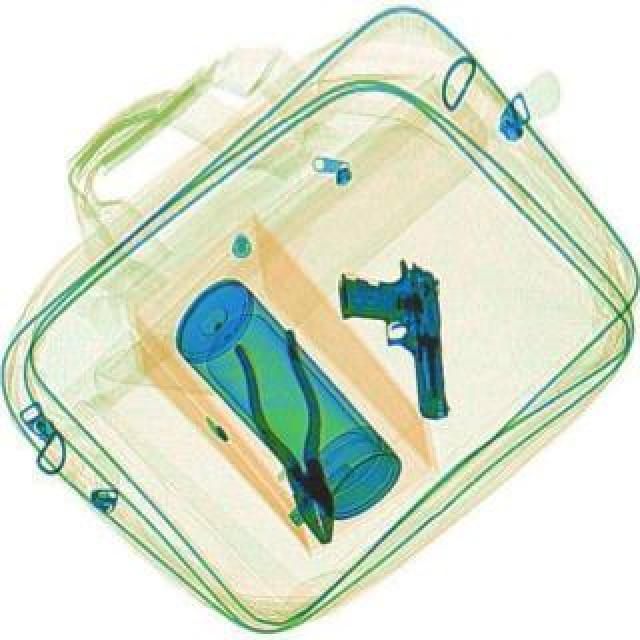gun: (334, 252, 450, 424)
wrench: (230, 326, 356, 550)
